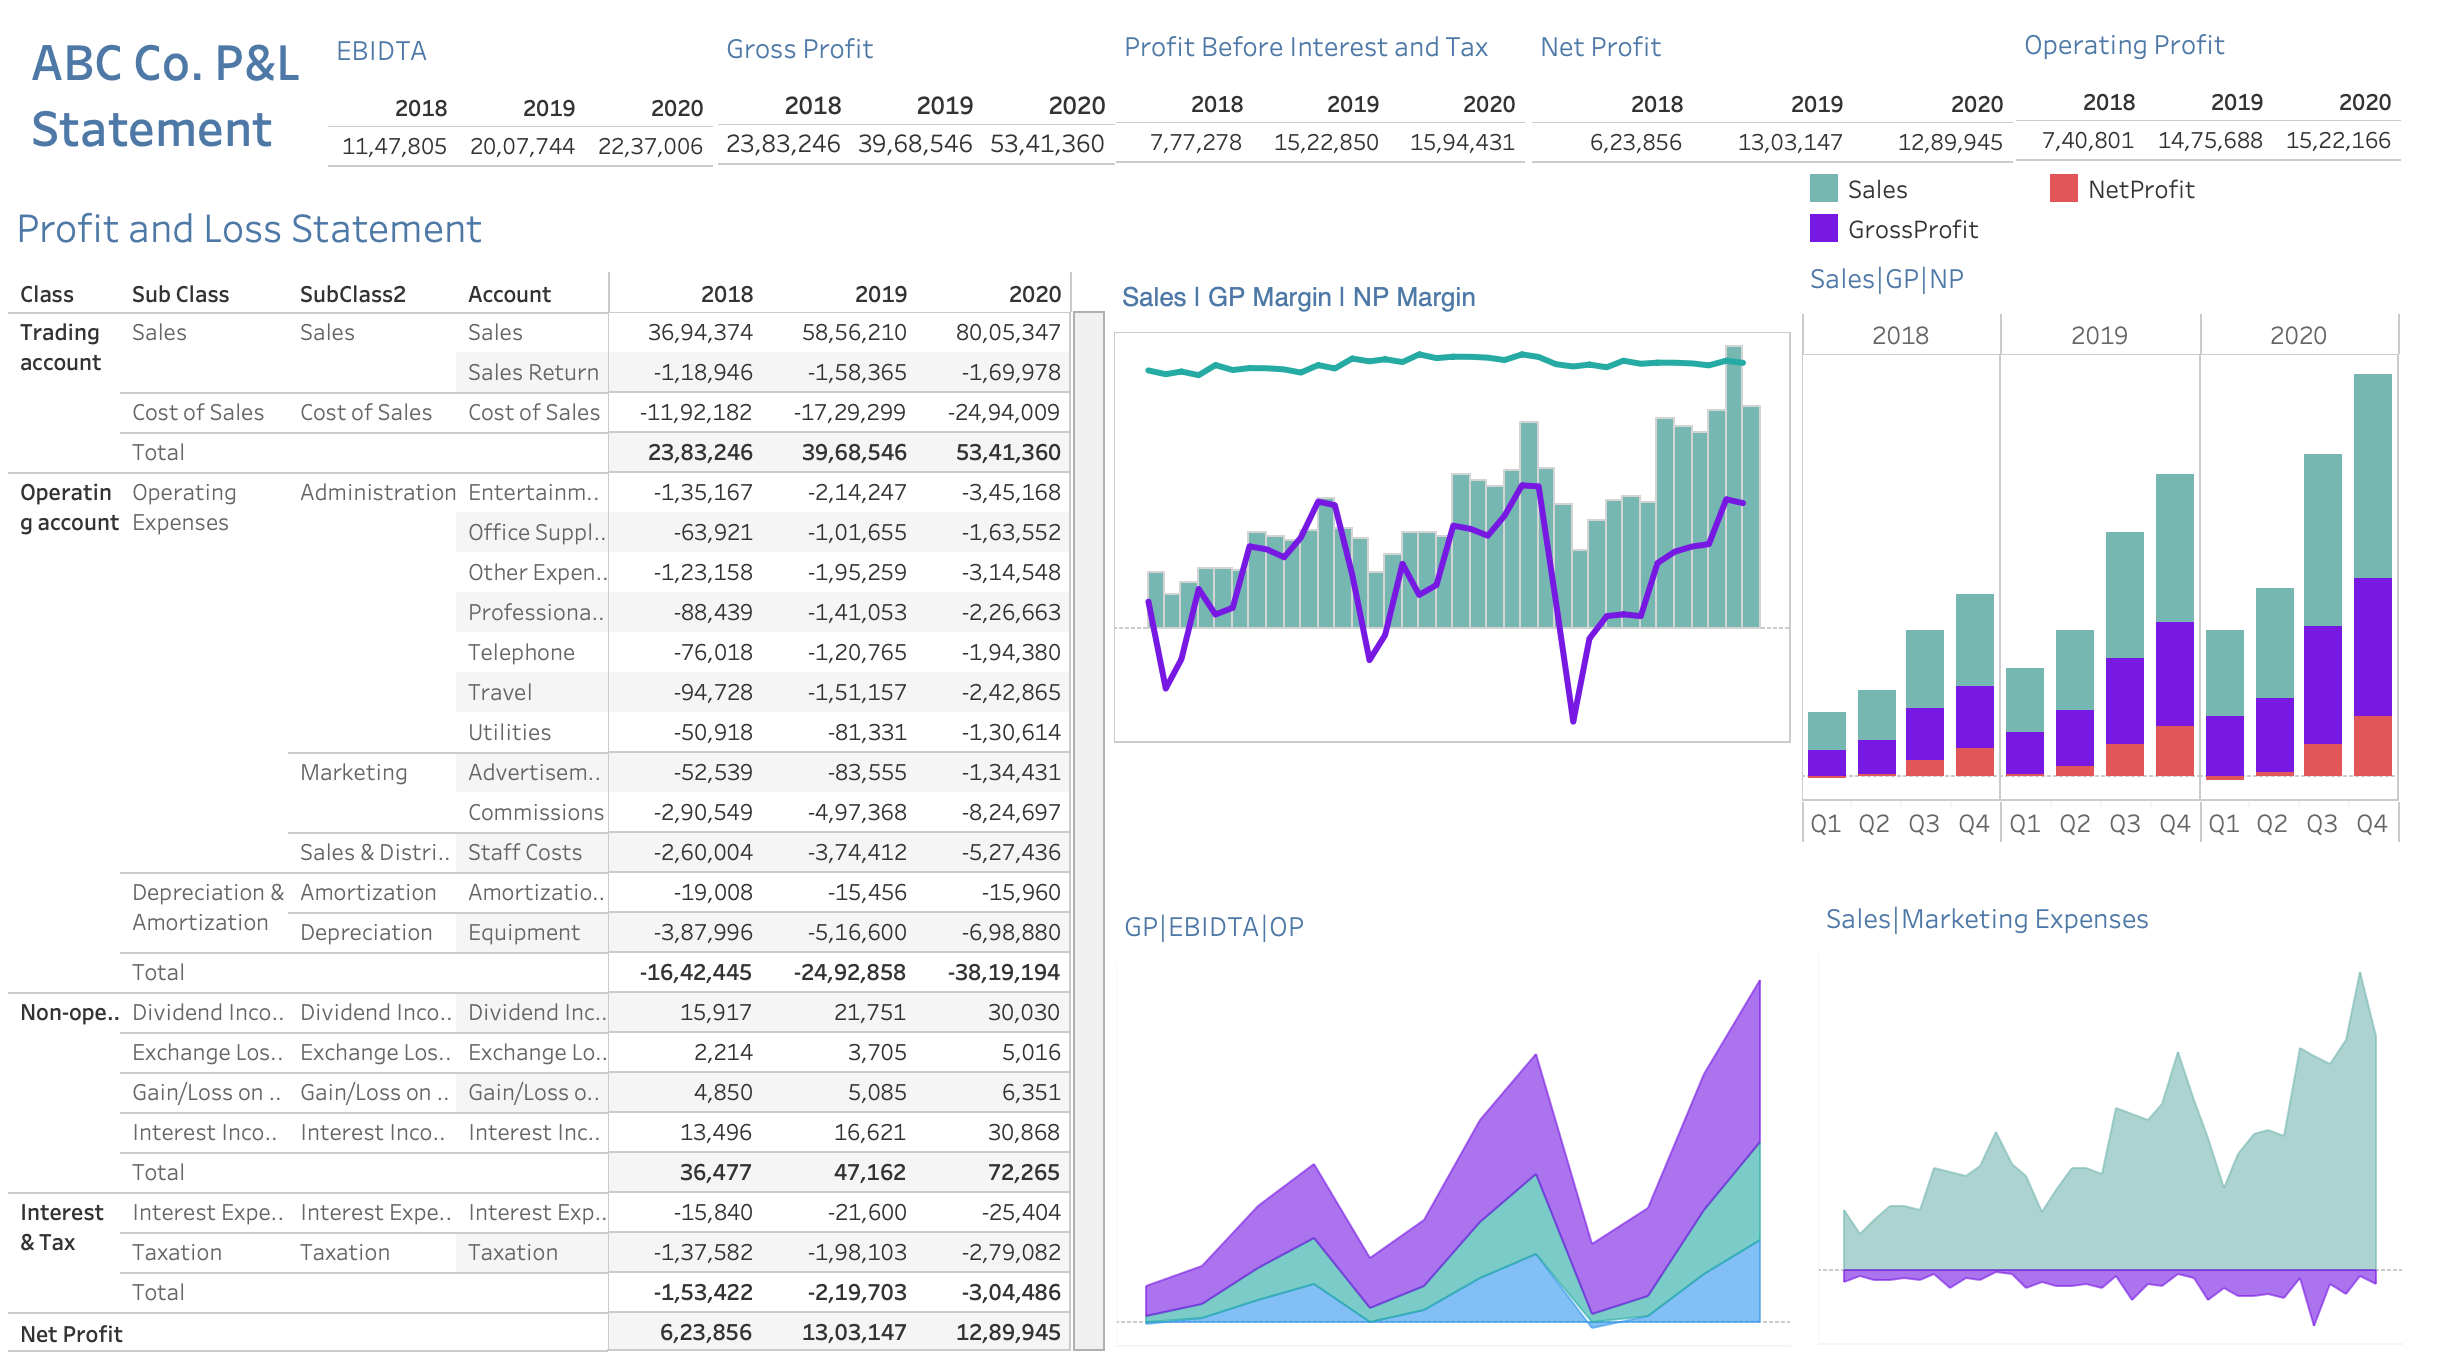

The page's visual inventory and layout, read from the dashboard file:
{"tool":"tableau","page":{"name":"Dashboard 1","canvas":[1000,1000],"units":"permille","ordinal":0},"visuals":[{"type":"worksheet","title":"PBIT","mark":"Automatic","cols":["Date (Calendar)"],"box":[454,11.8,173.3,114.9]},{"type":"worksheet","title":"NP","mark":"Automatic","cols":["Date (Calendar)"],"box":[623.3,11.8,197.7,114.9]},{"type":"worksheet","title":"GP","mark":"Automatic","cols":["Date (Calendar)"],"box":[292.1,13.2,163.6,114.9]},{"type":"worksheet","title":"EBIDTA","mark":"Automatic","cols":["Date (Calendar)"],"box":[133.4,14.7,159.5,114.9]},{"type":"title","box":[10.6,17.7,153,103.1]},{"type":"worksheet","title":"P&L","mark":"Automatic","rows":["Class","SubClass","SubClass2","Account"],"cols":["Date (Calendar)"],"box":[3.2,138.4,451.6,857.1]},{"type":"worksheet","title":"Sheet 8","mark":"Bar","cols":["Date (Calendar)","Date (Calendar)"],"box":[733.1,182.6,243.3,438.9]},{"type":"worksheet","title":"Sheet 11","mark":"Automatic","rows":["Calculation_1248200833080692736"],"cols":["Date (Calendar)"],"box":[453.2,197.3,275.8,350.5]},{"type":"worksheet","title":"Sheet 9","mark":"Area","cols":["Date (Calendar)"],"box":[739.6,653.9,237.6,335.8]},{"type":"worksheet","title":"Sheet 10","mark":"Area","cols":["Date (Calendar)"],"box":[454,659.8,274.2,331.4]}]}

Visuals, with their boxes on the dashboard's canvas, which has no fixed pixel size, in thousandths of its width and height (x1, y1, x2, y2). These are canvas units, not pixel positions in the 2458x1358 screenshot, which may show the page scaled, cropped or inside an application window:
"PBIT" worksheet: [454,12,627,127]
"NP" worksheet: [623,12,821,127]
"GP" worksheet: [292,13,456,128]
"EBIDTA" worksheet: [133,15,293,130]
title: [11,18,164,121]
"P&L" worksheet: [3,138,455,996]
"Sheet 8" worksheet (Bar marks): [733,183,976,622]
"Sheet 11" worksheet: [453,197,729,548]
"Sheet 9" worksheet (Area marks): [740,654,977,990]
"Sheet 10" worksheet (Area marks): [454,660,728,991]
